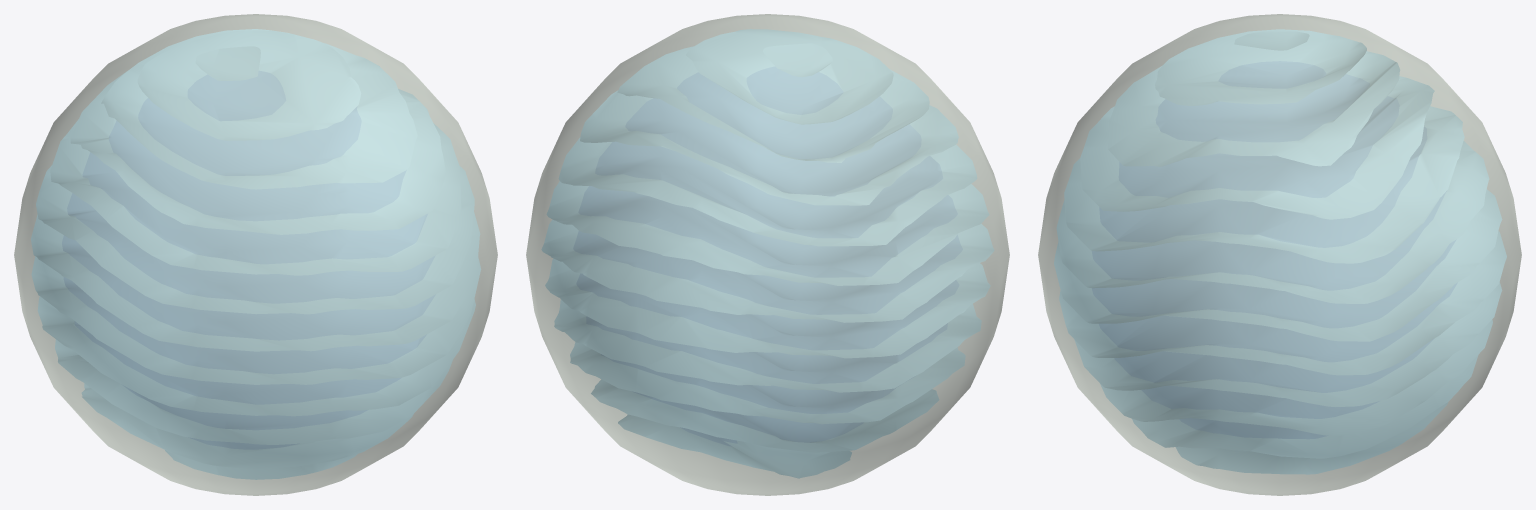
The model's file is Layers - bleu.fbx.
3 views of the same model, side by side, from view 1: azimuth 30°, elevation 25°; view 2: azimuth 150°, elevation 25°; view 3: azimuth 270°, elevation 25° (orthographic).
Visible parts, largest first — view 1: SketchUp; view 2: SketchUp; view 3: SketchUp.
Boxes of the visible parts, x1,y1,x2,y2 form: SketchUp: (14,14,497,495); SketchUp: (526,14,1009,495); SketchUp: (1038,14,1521,495).
Bounding box in the file's own units: 100 × 100 × 100.
